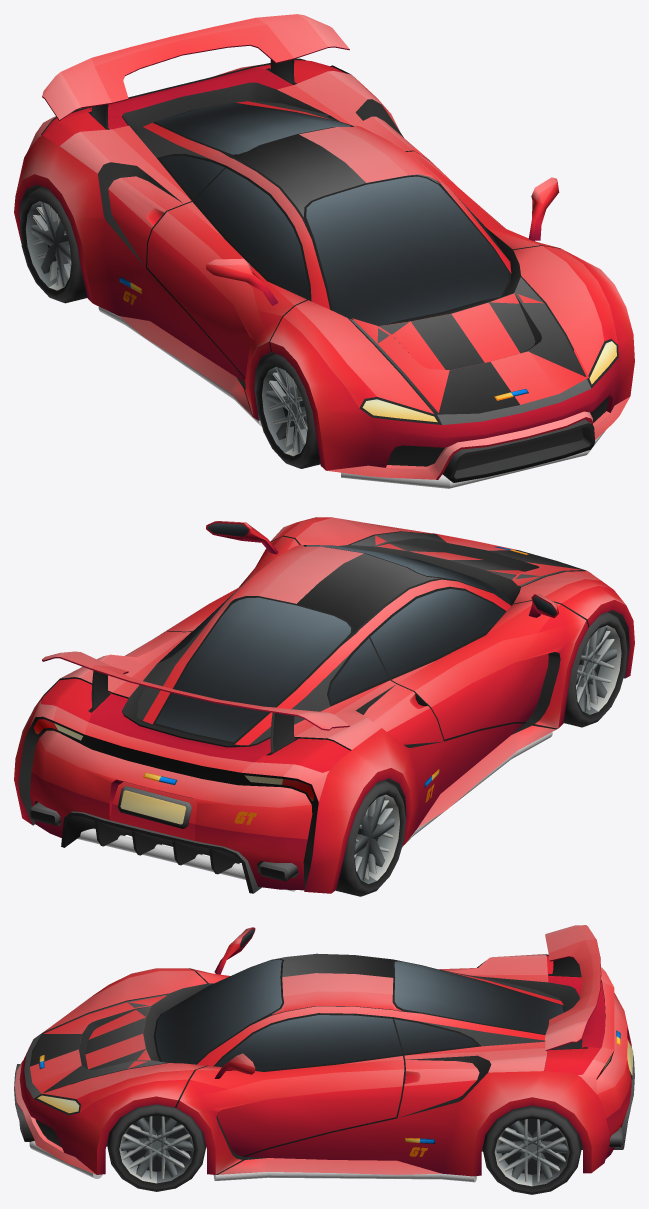
Rendered from Car_5.fbx.
The picture shows the model from 3 angles, top to bottom: view 1: azimuth 30°, elevation 25°; view 2: azimuth 150°, elevation 25°; view 3: azimuth 270°, elevation 25°; orthographic projection. The views are drawn at different scales.
Visible parts, largest first — view 1: Car_19A, CarbonPart.003, OldPart.003, Spoiler.004, Wheel_19A_R.R, Wheel_19A_F.R, Wheel_19A_F.R_001.001, Neon.005, Wheel_19A_R.R_001.001; view 2: Car_19A, CarbonPart.003, OldPart.003, Wheel_19A_F.R_001.001, Spoiler.004, Wheel_19A_R.R_001.001, Wheel_19A_R.R, Neon.005, Wheel_19A_F.R; view 3: Car_19A, OldPart.003, CarbonPart.003, Spoiler.004, Wheel_19A_R.L, Wheel_19A_F.L, Wheel_19A_R.L_001.001, Wheel_19A_F.L_001.001, Neon.005.
Part boxes in pixels (bbox=[...]): Car_19A: bbox=[14, 58, 634, 482]; CarbonPart.003: bbox=[231, 126, 585, 414]; OldPart.003: bbox=[299, 125, 588, 412]; Spoiler.004: bbox=[42, 14, 349, 128]; Wheel_19A_R.R: bbox=[20, 192, 87, 303]; Wheel_19A_F.R: bbox=[256, 359, 320, 468]; Wheel_19A_F.R_001.001: bbox=[256, 353, 308, 462]; Neon.005: bbox=[98, 306, 604, 488]; Wheel_19A_R.R_001.001: bbox=[20, 186, 72, 297]; Car_19A: bbox=[14, 517, 634, 893]; CarbonPart.003: bbox=[231, 531, 585, 633]; OldPart.003: bbox=[228, 531, 582, 603]; Wheel_19A_F.R_001.001: bbox=[563, 618, 627, 727]; Spoiler.004: bbox=[42, 651, 349, 752]; Wheel_19A_R.R_001.001: bbox=[336, 786, 405, 896]; Wheel_19A_R.R: bbox=[353, 780, 405, 890]; Neon.005: bbox=[77, 732, 552, 891]; Wheel_19A_F.R: bbox=[575, 611, 627, 721]; Car_19A: bbox=[14, 927, 634, 1176]; OldPart.003: bbox=[30, 973, 401, 1093]; CarbonPart.003: bbox=[30, 953, 401, 1092]; Spoiler.004: bbox=[545, 925, 601, 1050]; Wheel_19A_R.L: bbox=[482, 1105, 574, 1194]; Wheel_19A_F.L: bbox=[107, 1104, 199, 1191]; Wheel_19A_R.L_001.001: bbox=[489, 1105, 581, 1194]; Wheel_19A_F.L_001.001: bbox=[114, 1104, 206, 1191]; Neon.005: bbox=[29, 1141, 477, 1182].
Size of the model in its own units: 2.87 by 1.51 by 5.35.
Materials: 1 (1 with a texture image).
